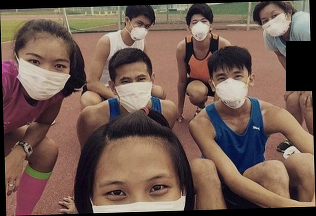with_mask: (90, 173, 186, 212), (18, 49, 72, 101), (114, 74, 154, 113), (215, 70, 251, 108), (262, 10, 290, 39), (189, 17, 213, 41), (128, 19, 151, 42)
